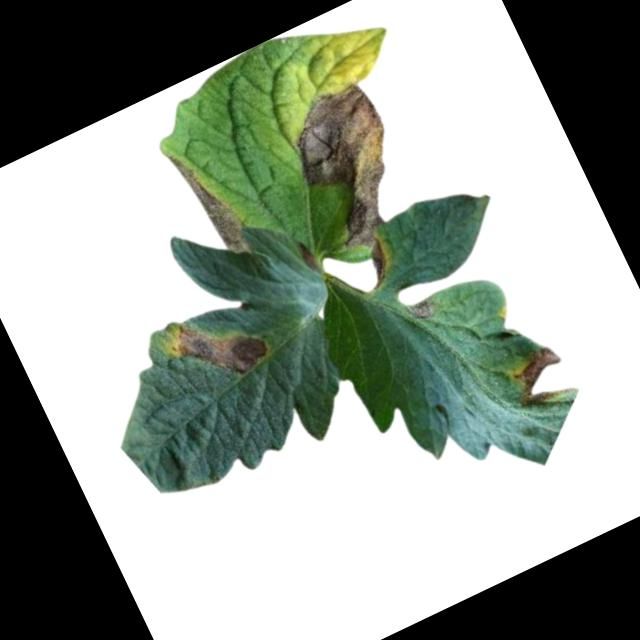Early_blight: (282, 75, 429, 255), (159, 295, 273, 402), (164, 139, 254, 266), (503, 343, 577, 415), (356, 240, 399, 292), (294, 238, 327, 282), (407, 297, 436, 326)
